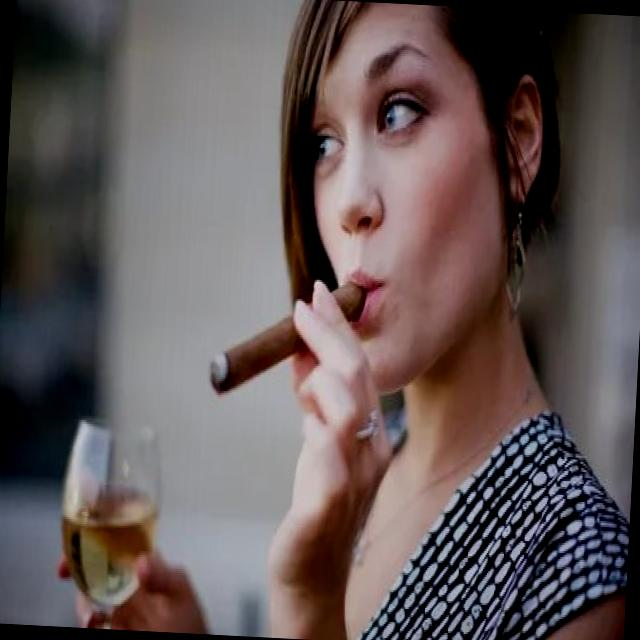smoke: (201, 268, 372, 414)
